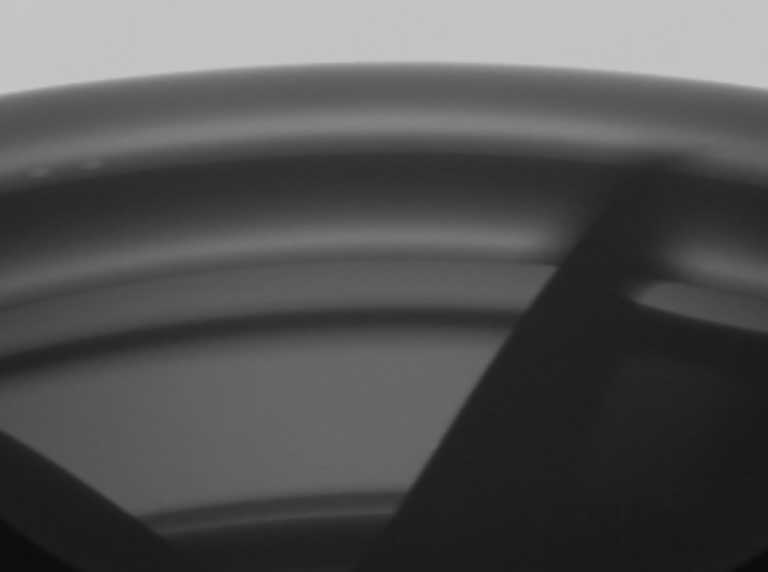defect: (24, 159, 63, 188)
